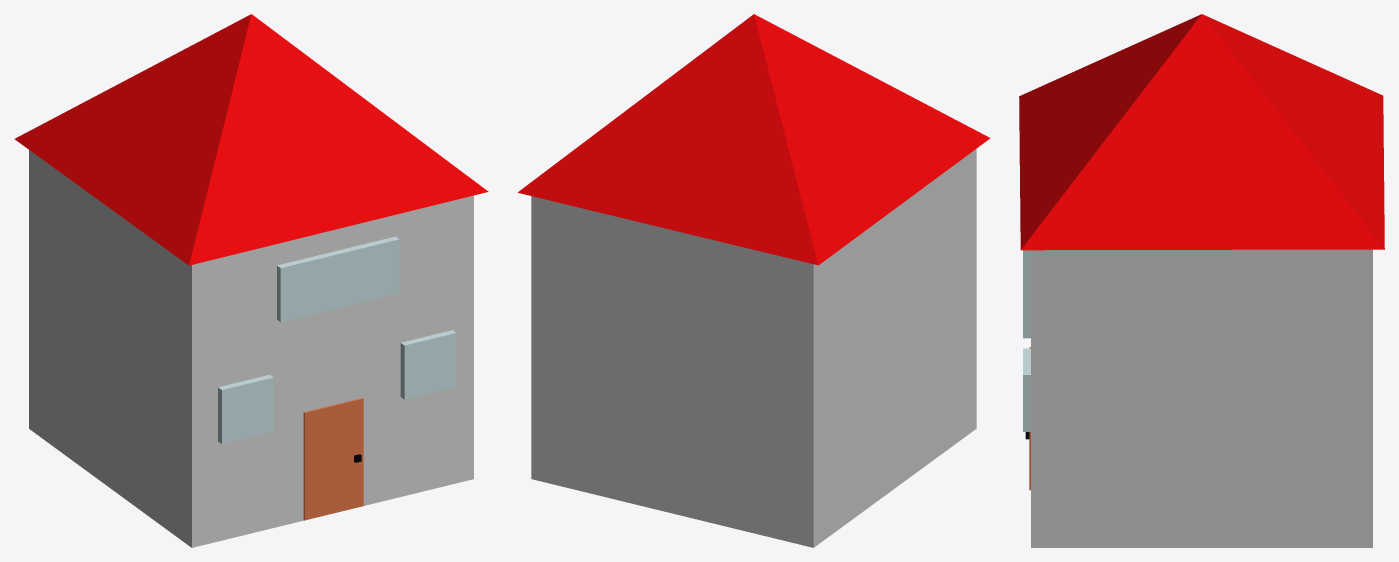
File: Casa 1.fbx
3 renders of one model, left to right at view 1: azimuth 30°, elevation 25°; view 2: azimuth 150°, elevation 25°; view 3: azimuth 270°, elevation 25°, orthographic. The views are drawn at different scales.
Visible parts, largest first — view 1: Cube, Cone, Cube.006, Cube.001, Cube.003, Cube.004; view 2: Cube, Cone; view 3: Cube, Cone, Cube.003.
Part boxes in pixels (x1,y1,x2,y2): Cube: (29,150,473,547); Cone: (14,14,488,265); Cube.006: (277,236,399,322); Cube.001: (303,398,363,520); Cube.003: (400,330,456,399); Cube.004: (218,374,273,444); Cube: (531,149,976,547); Cone: (518,14,990,265); Cube: (1031,249,1372,547); Cone: (1019,14,1384,250); Cube.003: (1023,348,1030,431).
Bounding box in the file's own units: 134 × 186 × 134.
